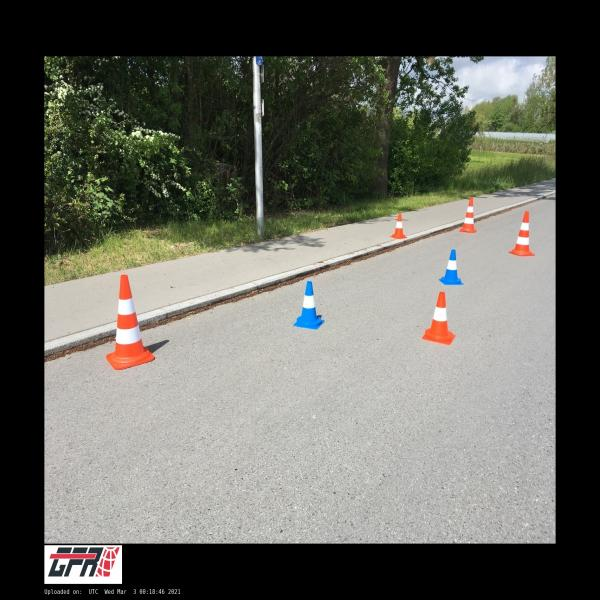blue_cone: (294, 281, 325, 330), (438, 249, 464, 285)
large_orange_cone: (106, 275, 155, 370), (508, 211, 535, 256), (459, 197, 477, 233)
orange_cone: (422, 292, 456, 345), (390, 214, 407, 239)
